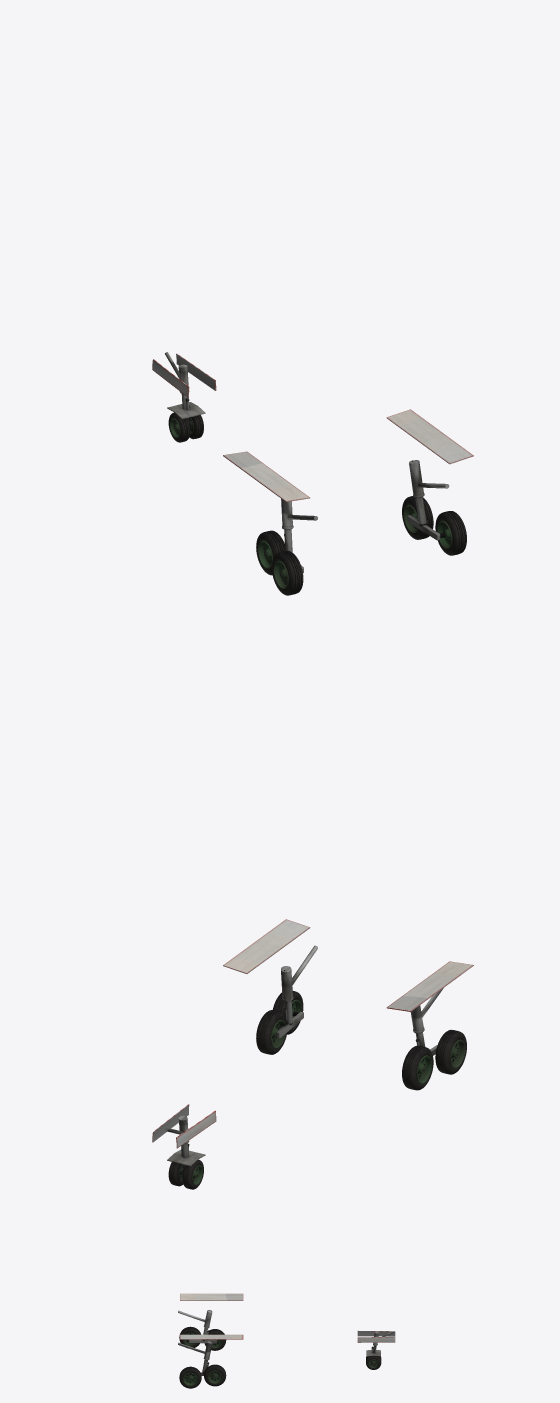
File: e_mig31_gear.glb
3 views of the same model, one above another, from view 1: azimuth 30°, elevation 25°; view 2: azimuth 150°, elevation 25°; view 3: azimuth 270°, elevation 25° (orthographic). The views are drawn at different scales.
Parts seen in each view (by area): view 1: body|MG_paint; view 2: body|MG_paint; view 3: body|MG_paint.
Part boxes in pixels (x1,y1,x2,y2): body|MG_paint: [152, 352, 473, 595]; body|MG_paint: [152, 919, 473, 1189]; body|MG_paint: [178, 1293, 395, 1388].
Bounding box in the file's own units: 4.64 × 7.05 × 22.75.
Materials: 1 (1 with a texture image).
